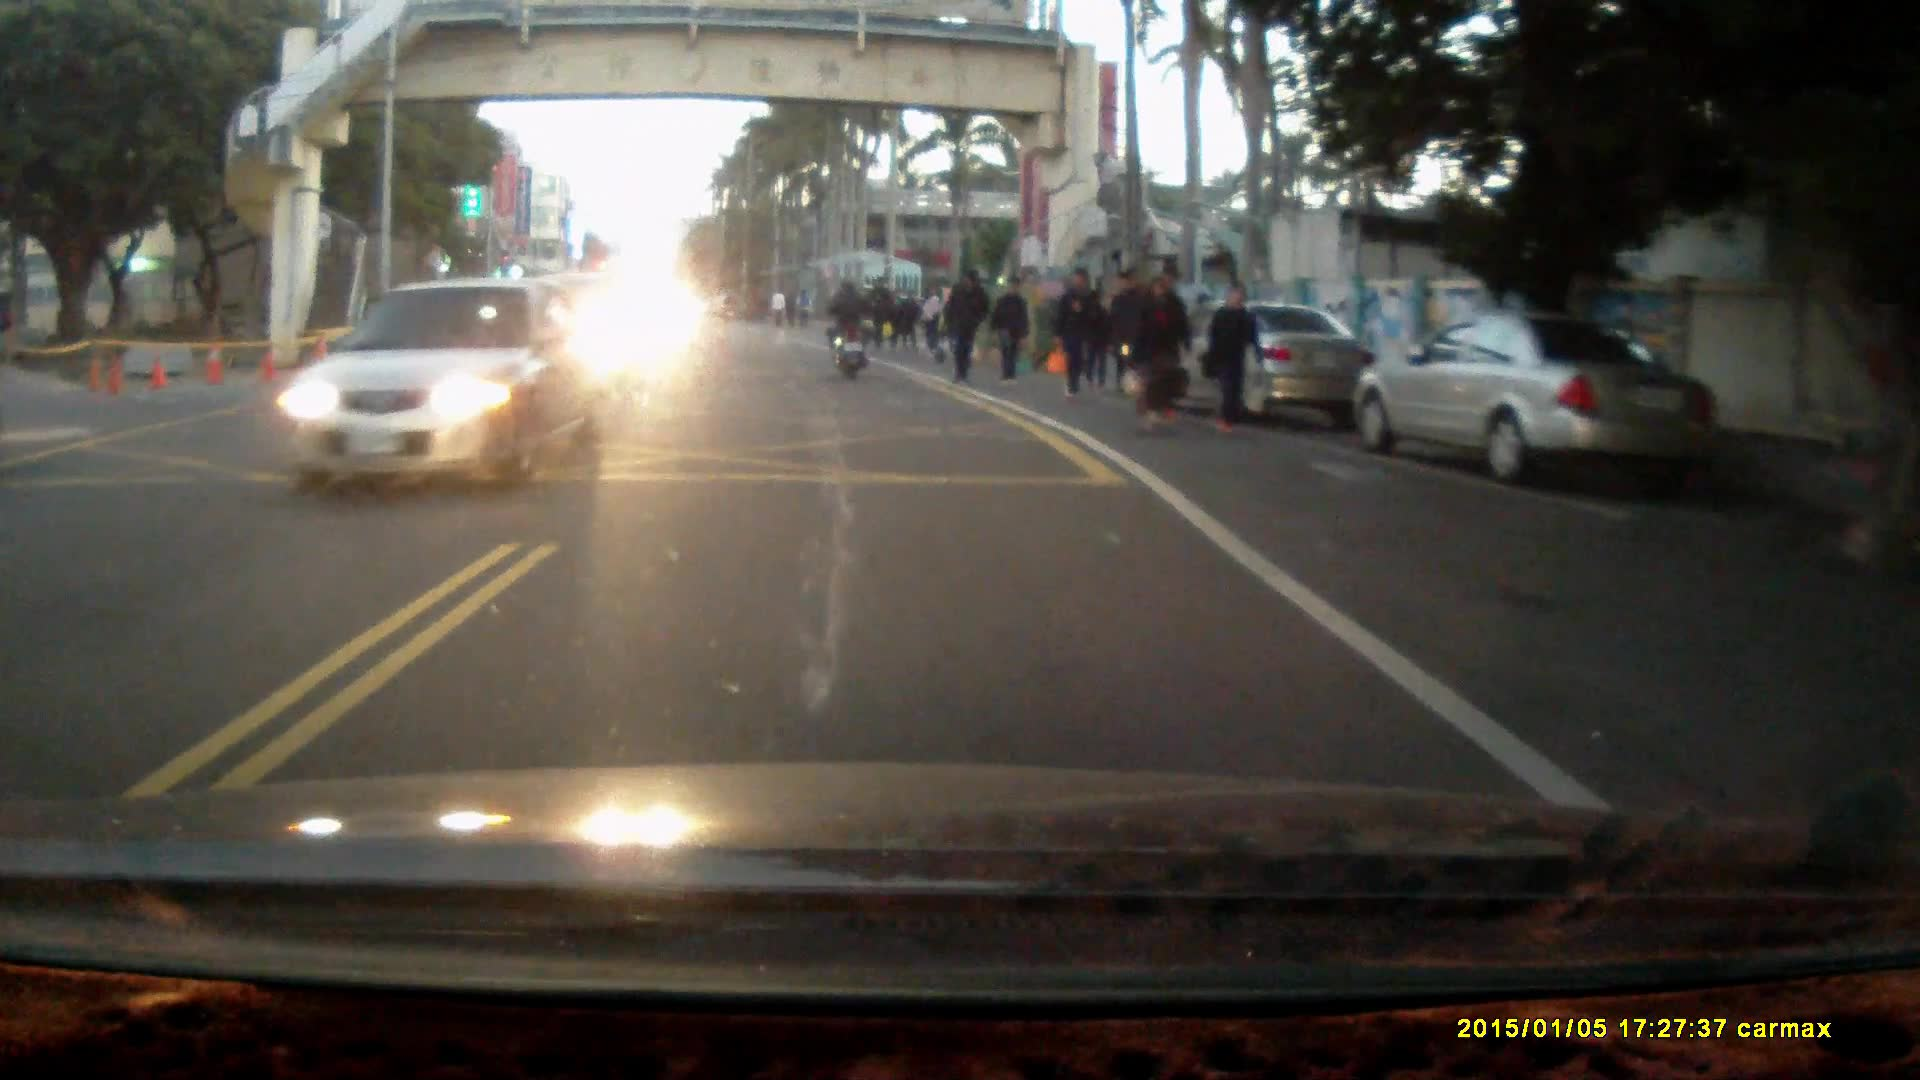pedestrian: (1201, 286, 1264, 439), (1133, 278, 1185, 430), (1052, 265, 1098, 401), (942, 267, 991, 386), (989, 275, 1033, 391)
rider: (824, 275, 875, 381)
vehicle: (274, 279, 614, 497), (1356, 311, 1724, 487), (1137, 306, 1383, 424)
